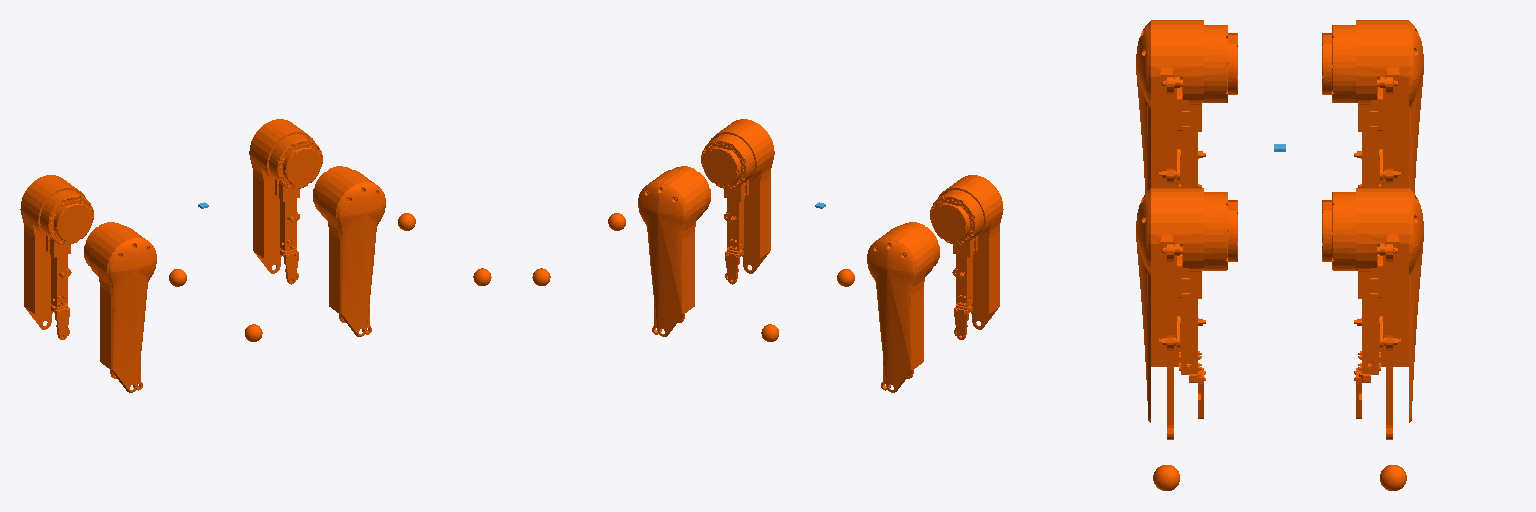
--- What the picture shows (computed from the rendered views, not written in the file) ---
Views: 3 orthographic renders of the robot side by side, from view 1: azimuth 30°, elevation 25°; view 2: azimuth 150°, elevation 25°; view 3: azimuth 270°, elevation 25°.
Model robot with 18 links and 17 joints (12 revolute, 5 fixed), rooted at base, posed joints at zero except 4 at the middle of their limits (FR_calf_joint = -1.71, FL_calf_joint = -1.71, RR_calf_joint = -1.71, RL_calf_joint = -1.71).
Visible links, largest first — view 1: RR_thigh, FR_thigh, RL_thigh, FL_thigh; view 2: RL_thigh, FL_thigh, RR_thigh, FR_thigh; view 3: FR_thigh, FL_thigh, RR_thigh, RL_thigh, FR_foot, FL_foot.
Link boxes in pixels (box(x1,y1,x2,y2)): RR_thigh: box(84, 222, 156, 392); FR_thigh: box(313, 166, 385, 336); RL_thigh: box(20, 175, 93, 339); FL_thigh: box(249, 119, 322, 284); RL_thigh: box(867, 222, 939, 392); FL_thigh: box(638, 166, 710, 336); RR_thigh: box(930, 175, 1003, 339); FR_thigh: box(701, 119, 774, 284); FR_thigh: box(1136, 188, 1237, 439); FL_thigh: box(1322, 188, 1423, 439); RR_thigh: box(1136, 20, 1237, 192); RL_thigh: box(1322, 20, 1423, 192); FR_foot: box(1153, 465, 1179, 490); FL_foot: box(1380, 465, 1406, 490).
Size in the robot's own frame: 0.8176 by 0.3506 by 0.3193 metres.
Meshes: 5 distinct files referenced, 4 mesh visuals loaded (2 Collada DAE); not drawn: 9 (reference not matched to a file when rendering).

The robot description file, URDF, robot "robot":
<?xml version="1.0" ?>
<!-- =================================================================================== -->
<!-- |    This document was autogenerated by xacro from ../robots/quadrupedal_robot/arcdog.xacro | -->
<!-- |    EDITING THIS FILE BY HAND IS NOT RECOMMENDED                                 | -->
<!-- =================================================================================== -->
<robot name="robot">
  <material name="black">
    <color rgba="0.0 0.0 0.0 1.0"/>
  </material>
  <material name="blue">
    <color rgba="0.0 0.0 0.8 1.0"/>
  </material>
  <material name="green">
    <color rgba="0.0 0.8 0.0 1.0"/>
  </material>
  <material name="grey">
    <color rgba="0.2 0.2 0.2 1.0"/>
  </material>
  <material name="silver">
    <color rgba="0.9137254901960784 0.9137254901960784 0.8470588235294118 1.0"/>
  </material>
  <material name="orange">
    <color rgba="1.0 0.4235294117647059 0.0392156862745098 1.0"/>
  </material>
  <material name="brown">
    <color rgba="0.8705882352941177 0.8117647058823529 0.7647058823529411 1.0"/>
  </material>
  <material name="red">
    <color rgba="0.8 0.0 0.0 1.0"/>
  </material>
  <material name="white">
    <color rgba="1.0 1.0 1.0 1.0"/>
  </material>
  <!-- ros_control plugin -->
  <gazebo>
    <plugin filename="libarcdog_hw_sim.so" name="gazebo_ros_control">
      <robotNamespace>/</robotNamespace>
      <robotParam>legged_robot_description</robotParam>
      <robotSimType>arcdog_sim/ArcdogHWSim</robotSimType>
    </plugin>
  </gazebo>
  <gazebo>
    <plugin filename="libgazebo_ros_p3d.so" name="p3d_base_controller">
      <alwaysOn>true</alwaysOn>
      <updateRate>1000.0</updateRate>
      <bodyName>base</bodyName>
      <topicName>ground_truth/state</topicName>
      <gaussianNoise>0</gaussianNoise>
      <frameName>world</frameName>
      <xyzOffsets>0 0 0</xyzOffsets>
      <rpyOffsets>0 0 0</rpyOffsets>
    </plugin>
  </gazebo>

    
  <link name="base">
    <visual>
      <origin rpy="0 0 0" xyz="0 0 0"/>
      <geometry>
         <mesh filename="../meshes/trunk.dae" scale="1 1 1"/>
      </geometry>
    </visual>
    <collision>
      <origin rpy="0 0 0" xyz="0 0 0"/>
      <geometry>
        <box size="0.552 0.121 0.116"/>
      </geometry>
    </collision>
    <inertial>
      <origin rpy="0 0 0" xyz="0.00575 0.00126 -0.00469"/>
      <mass value="7.021"/>
      <inertia ixx="0.03769023916" ixy="1.433761e-05" ixz="0.00051349975" iyy="0.05008788073" iyz="0.00015851764" izz="0.07146322696"/>
    </inertial>
  </link>
  <!-- Imu is fixed to the base link -->
  <joint name="unitree_imu_joint" type="fixed">
    <origin rpy="0. 0. 0." xyz="0. 0. 0."/>
    <parent link="base"/>
    <child link="unitree_imu"/>
  </joint>
  <!-- Imu link -->
  <link name="unitree_imu">
    <inertial>
      <mass value="0.01"/>
      <origin rpy="0 0 0" xyz="0 0 0"/>
      <inertia ixx="0.000001" ixy="0" ixz="0" iyy="0.000001" iyz="0" izz="0.000001"/>
    </inertial>
    <visual>
      <origin rpy="0 0 0" xyz="0 0 0"/>
      <geometry>
        <box size="0.015 0.015 0.004"/>
      </geometry>
    </visual>
    <material name="orange">
      <color rgba="255 108 10 255"/>
    </material>
  </link>
  <gazebo reference="unitree_imu">
    <material>Gazebo/Orange</material>
  </gazebo>
  <gazebo reference="unitree_imu_joint">
    <disableFixedJointLumping>true</disableFixedJointLumping>
  </gazebo>
  <joint name="FR_hip_joint" type="revolute">
    <origin rpy="0 0 0" xyz="0.2407 -0.051 0"/>
    <parent link="base"/>
    <child link="FR_hip"/>
    <axis xyz="1 0 0"/>
    <dynamics damping="0.05" friction="0.01"/>
    <limit effort="35.278" lower="-1.2217304763960306" upper="1.2217304763960306" velocity="20"/>
  </joint>
  <link name="FR_hip">
    <visual>
      <origin rpy="3.141592653589793 0 0" xyz="0 0 0"/>
      <geometry>
        <mesh filename="../meshes/hip.dae" scale="1 1 1"/>
      </geometry>
      <material name="orange"/>
    </visual>
    <collision>
      <origin rpy="1.5707963267948966 0 0" xyz="0 0 0"/>
      <geometry>
        <cylinder length="0.1165" radius="0.046"/>
      </geometry>
    </collision>
    <inertial>
      <origin rpy="0 0 0" xyz="-0.00758 0.00359 -0.00029"/>
      <mass value="1.162"/>
      <inertia ixx="0.00095157705" ixy="-1.10967e-05" ixz="-2.66665e-06" iyy="0.00159323348" iyz="1.26718e-05" izz="0.00125451931"/>
    </inertial>
  </link>
  <joint name="FR_thigh_joint" type="revolute">
    <origin rpy="0 0 0" xyz="0 -0.0868 0"/>
    <parent link="FR_hip"/>
    <child link="FR_thigh"/>
    <axis xyz="0 1 0"/>
    <dynamics damping="0.05" friction="0.01"/>
    <limit effort="35.278" lower="-0.6457718232379019" upper="0.6457718232379019" velocity="20"/>
  </joint>
  <link name="FR_thigh">
    <visual>
      <origin rpy="0 0 0" xyz="0 0 0"/>
      <geometry>
        <mesh filename="../meshes/thigh_mirror.dae" scale="1 1 1"/>
      </geometry>
      <material name="orange"/>
    </visual>
    <collision>
      <origin rpy="0 1.6707963267948966 0" xyz="-0.015 0 -0.12225"/>
      <geometry>
        <box size="0.2445 0.062 0.043"/>
      </geometry>
    </collision>
    <collision>
      <origin rpy="1.5707963267948966 0 0" xyz="0 -0.0 0"/>
      <geometry>
        <cylinder length="0.03" radius="0.044"/>
      </geometry>
    </collision>
    <inertial>
      <origin rpy="0 0 0" xyz="0.00033 -0.03334 -0.02983"/>
      <mass value="1.528"/>
      <inertia ixx="0.00884041519" ixy="3.381758e-05" ixz="-5.33686e-05" iyy="0.00784145389" iyz="-0.00128350622" izz="0.0026004502"/>
    </inertial>
  </link>
  <joint name="FR_calf_joint" type="revolute">
    <origin rpy="0 0 0" xyz="0 0 -0.2445"/>
    <parent link="FR_thigh"/>
    <child link="FR_calf"/>
    <axis xyz="0 1 0"/>
    <dynamics damping="0.05" friction="0.01"/>
    <limit effort="44.4" lower="-2.775073510670984" upper="-0.6457718232379019" velocity="15.89"/>
  </joint>
  <link name="FR_calf">
    <visual>
      <origin rpy="0 0 0" xyz="0 0 0"/>
      <geometry>
        <mesh filename="../meshes/calf.dae" scale="1 1 1"/>
      </geometry>
      <material name="orange"/>
    </visual>
    <collision>
      <origin rpy="0 1.5707963267948966 0" xyz="0.008 0 -0.13475"/>
      <geometry>
        <box size="0.2695 0.05 0.03"/>
      </geometry>
    </collision>
    <inertial>
      <origin rpy="0 0 0" xyz="0.0016 0.00438 -0.12232"/>
      <mass value="0.132"/>
      <inertia ixx="0.00228050753" ixy="-3.3551e-07" ixz="8.26635e-06" iyy="0.00225891907" iyz="0.00010727008" izz="5.160443e-05"/>
    </inertial>
  </link>
  <joint dont_collapse="true" name="FR_foot_fixed" type="fixed">
    <origin rpy="0 0 0" xyz="0 0 -0.2695"/>
    <parent link="FR_calf"/>
    <child link="FR_foot"/>
  </joint>
  <link name="FR_foot">
    <visual>
      <origin rpy="0 0 0" xyz="0 0 0"/>
      <geometry>
        <sphere radius="0.0165"/>
      </geometry>
      <material name="orange"/>
    </visual>
    <collision>
      <origin rpy="0 0 0" xyz="0 0 0"/>
      <geometry>
        <sphere radius="0.0265"/>
      </geometry>
    </collision>
    <inertial>
      <mass value="0.06"/>
      <inertia ixx="1.6853999999999998e-05" ixy="0.0" ixz="0.0" iyy="1.6853999999999998e-05" iyz="0.0" izz="1.6853999999999998e-05"/>
    </inertial>
  </link>
  <gazebo reference="FR_foot_fixed">
    <disableFixedJointLumping>true</disableFixedJointLumping>
  </gazebo>
  <gazebo reference="FR_hip">
    <mu1>0.2</mu1>
    <mu2>0.2</mu2>
    <material>Gazebo/DarkGrey</material>
  </gazebo>
  <gazebo reference="FR_thigh">
    <mu1>0.2</mu1>
    <mu2>0.2</mu2>
    <self_collide>0</self_collide>
    <material>Gazebo/DarkGrey</material>
    <kp value="1000000.0"/>
    <kd value="100.0"/>
  </gazebo>
  <gazebo reference="FR_calf">
    <mu1>0.6</mu1>
    <mu2>0.6</mu2>
    <self_collide>1</self_collide>
  </gazebo>
  <gazebo reference="FR_FOOT">
    <mu1>0.6</mu1>
    <mu2>0.6</mu2>
    <self_collide>1</self_collide>
    <material>Gazebo/DarkGrey</material>
    <kp value="1000000.0"/>
    <kd value="100.0"/>
  </gazebo>
  <transmission name="FR_HAA_tran">
    <type>transmission_interface/SimpleTransmission</type>
    <joint name="FR_hip_joint">
      <hardwareInterface>hardware_interface/EffortJointInterface</hardwareInterface>
    </joint>
    <actuator name="FR_HAA_motor">
      <hardwareInterface>hardware_interface/EffortJointInterface</hardwareInterface>
      <mechanicalReduction>1</mechanicalReduction>
    </actuator>
  </transmission>
  <transmission name="FR_HFE_tran">
    <type>transmission_interface/SimpleTransmission</type>
    <joint name="FR_thigh_joint">
      <hardwareInterface>hardware_interface/EffortJointInterface</hardwareInterface>
    </joint>
    <actuator name="FR_HFE_motor">
      <hardwareInterface>hardware_interface/EffortJointInterface</hardwareInterface>
      <mechanicalReduction>1</mechanicalReduction>
    </actuator>
  </transmission>
  <transmission name="FR_KFE_tran">
    <type>transmission_interface/SimpleTransmission</type>
    <joint name="FR_calf_joint">
      <hardwareInterface>hardware_interface/EffortJointInterface</hardwareInterface>
    </joint>
    <actuator name="FR_KFE_motor">
      <hardwareInterface>hardware_interface/EffortJointInterface</hardwareInterface>
      <mechanicalReduction>1</mechanicalReduction>
    </actuator>
  </transmission>
  <joint name="FL_hip_joint" type="revolute">
    <origin rpy="0 0 0" xyz="0.2407 0.051 0"/>
    <parent link="base"/>
    <child link="FL_hip"/>
    <axis xyz="1 0 0"/>
    <dynamics damping="0.05" friction="0.01"/>
    <limit effort="35.278" lower="-1.2217304763960306" upper="1.2217304763960306" velocity="20"/>
  </joint>
  <link name="FL_hip">
    <visual>
      <origin rpy="0 0 0" xyz="0 0 0"/>
      <geometry>
        <mesh filename="../meshes/hip.dae" scale="1 1 1"/>
      </geometry>
      <material name="orange"/>
    </visual>
    <collision>
      <origin rpy="1.5707963267948966 0 0" xyz="0 0 0"/>
      <geometry>
        <cylinder length="0.1165" radius="0.046"/>
      </geometry>
    </collision>
    <inertial>
      <origin rpy="0 0 0" xyz="-0.00758 -0.00359 -0.00029"/>
      <mass value="1.162"/>
      <inertia ixx="0.00095157705" ixy="1.10967e-05" ixz="-2.66665e-06" iyy="0.00159323348" iyz="-1.26718e-05" izz="0.00125451931"/>
    </inertial>
  </link>
  <joint name="FL_thigh_joint" type="revolute">
    <origin rpy="0 0 0" xyz="0 0.0868 0"/>
    <parent link="FL_hip"/>
    <child link="FL_thigh"/>
    <axis xyz="0 1 0"/>
    <dynamics damping="0.05" friction="0.01"/>
    <limit effort="35.278" lower="-0.6457718232379019" upper="0.6457718232379019" velocity="20"/>
  </joint>
  <link name="FL_thigh">
    <visual>
      <origin rpy="0 0 0" xyz="0 0 0"/>
      <geometry>
        <mesh filename="../meshes/thigh.dae" scale="1 1 1"/>
      </geometry>
      <material name="orange"/>
    </visual>
    <collision>
      <origin rpy="0 1.6707963267948966 0" xyz="-0.015 0 -0.12225"/>
      <geometry>
        <box size="0.2445 0.062 0.043"/>
      </geometry>
    </collision>
    <collision>
      <origin rpy="1.5707963267948966 0 0" xyz="0 0.0 0"/>
      <geometry>
        <cylinder length="0.03" radius="0.044"/>
      </geometry>
    </collision>
    <inertial>
      <origin rpy="0 0 0" xyz="0.00033 0.03334 -0.02983"/>
      <mass value="1.528"/>
      <inertia ixx="0.00884041519" ixy="-3.381758e-05" ixz="-5.33686e-05" iyy="0.00784145389" iyz="0.00128350622" izz="0.0026004502"/>
    </inertial>
  </link>
  <joint name="FL_calf_joint" type="revolute">
    <origin rpy="0 0 0" xyz="0 0 -0.2445"/>
    <parent link="FL_thigh"/>
    <child link="FL_calf"/>
    <axis xyz="0 1 0"/>
    <dynamics damping="0.05" friction="0.01"/>
    <limit effort="44.4" lower="-2.775073510670984" upper="-0.6457718232379019" velocity="15.89"/>
  </joint>
  <link name="FL_calf">
    <visual>
      <origin rpy="0 0 0" xyz="0 0 0"/>
      <geometry>
        <mesh filename="../meshes/calf.dae" scale="1 1 1"/>
      </geometry>
      <material name="orange"/>
    </visual>
    <collision>
      <origin rpy="0 1.5707963267948966 0" xyz="0.008 0 -0.13475"/>
      <geometry>
        <box size="0.2695 0.05 0.03"/>
      </geometry>
    </collision>
    <inertial>
      <origin rpy="0 0 0" xyz="0.0016 0.00438 -0.12232"/>
      <mass value="0.132"/>
      <inertia ixx="0.00228050753" ixy="-3.3551e-07" ixz="8.26635e-06" iyy="0.00225891907" iyz="0.00010727008" izz="5.160443e-05"/>
    </inertial>
  </link>
  <joint dont_collapse="true" name="FL_foot_fixed" type="fixed">
    <origin rpy="0 0 0" xyz="0 0 -0.2695"/>
    <parent link="FL_calf"/>
    <child link="FL_foot"/>
  </joint>
  <link name="FL_foot">
    <visual>
      <origin rpy="0 0 0" xyz="0 0 0"/>
      <geometry>
        <sphere radius="0.0165"/>
      </geometry>
      <material name="orange"/>
    </visual>
    <collision>
      <origin rpy="0 0 0" xyz="0 0 0"/>
      <geometry>
        <sphere radius="0.0265"/>
      </geometry>
    </collision>
    <inertial>
      <mass value="0.06"/>
      <inertia ixx="1.6853999999999998e-05" ixy="0.0" ixz="0.0" iyy="1.6853999999999998e-05" iyz="0.0" izz="1.6853999999999998e-05"/>
    </inertial>
  </link>
  <gazebo reference="FL_foot_fixed">
    <disableFixedJointLumping>true</disableFixedJointLumping>
  </gazebo>
  <gazebo reference="FL_hip">
    <mu1>0.2</mu1>
    <mu2>0.2</mu2>
    <material>Gazebo/DarkGrey</material>
  </gazebo>
  <gazebo reference="FL_thigh">
    <mu1>0.2</mu1>
    <mu2>0.2</mu2>
    <self_collide>0</self_collide>
    <material>Gazebo/DarkGrey</material>
    <kp value="1000000.0"/>
    <kd value="100.0"/>
  </gazebo>
  <gazebo reference="FL_calf">
    <mu1>0.6</mu1>
    <mu2>0.6</mu2>
    <self_collide>1</self_collide>
  </gazebo>
  <gazebo reference="FL_FOOT">
    <mu1>0.6</mu1>
    <mu2>0.6</mu2>
    <self_collide>1</self_collide>
    <material>Gazebo/DarkGrey</material>
    <kp value="1000000.0"/>
    <kd value="100.0"/>
  </gazebo>
  <transmission name="FL_HAA_tran">
    <type>transmission_interface/SimpleTransmission</type>
    <joint name="FL_hip_joint">
      <hardwareInterface>hardware_interface/EffortJointInterface</hardwareInterface>
    </joint>
    <actuator name="FL_HAA_motor">
      <hardwareInterface>hardware_interface/EffortJointInterface</hardwareInterface>
      <mechanicalReduction>1</mechanicalReduction>
    </actuator>
  </transmission>
  <transmission name="FL_HFE_tran">
    <type>transmission_interface/SimpleTransmission</type>
    <joint name="FL_thigh_joint">
      <hardwareInterface>hardware_interface/EffortJointInterface</hardwareInterface>
    </joint>
    <actuator name="FL_HFE_motor">
      <hardwareInterface>hardware_interface/EffortJointInterface</hardwareInterface>
      <mechanicalReduction>1</mechanicalReduction>
    </actuator>
  </transmission>
  <transmission name="FL_KFE_tran">
    <type>transmission_interface/SimpleTransmission</type>
    <joint name="FL_calf_joint">
      <hardwareInterface>hardware_interface/EffortJointInterface</hardwareInterface>
    </joint>
    <actuator name="FL_KFE_motor">
      <hardwareInterface>hardware_interface/EffortJointInterface</hardwareInterface>
      <mechanicalReduction>1</mechanicalReduction>
    </actuator>
  </transmission>
  <joint name="RR_hip_joint" type="revolute">
    <origin rpy="0 0 0" xyz="-0.2407 -0.051 0"/>
    <parent link="base"/>
    <child link="RR_hip"/>
    <axis xyz="1 0 0"/>
    <dynamics damping="0.05" friction="0.01"/>
    <limit effort="35.278" lower="-1.2217304763960306" upper="1.2217304763960306" velocity="20"/>
  </joint>
  <link name="RR_hip">
    <visual>
      <origin rpy="3.141592653589793 3.141592653589793 0" xyz="0 0 0"/>
      <geometry>
        <mesh filename="../meshes/hip.dae" scale="1 1 1"/>
      </geometry>
      <material name="orange"/>
    </visual>
    <collision>
      <origin rpy="1.5707963267948966 0 0" xyz="0 0 0"/>
      <geometry>
        <cylinder length="0.1165" radius="0.046"/>
      </geometry>
    </collision>
    <inertial>
      <origin rpy="0 0 0" xyz="0.00758 0.00359 -0.00029"/>
      <mass value="1.162"/>
      <inertia ixx="0.00095157705" ixy="1.10967e-05" ixz="2.66665e-06" iyy="0.00159323348" iyz="1.26718e-05" izz="0.00125451931"/>
    </inertial>
  </link>
  <joint name="RR_thigh_joint" type="revolute">
    <origin rpy="0 0 0" xyz="0 -0.0868 0"/>
    <parent link="RR_hip"/>
    <child link="RR_thigh"/>
    <axis xyz="0 1 0"/>
    <dynamics damping="0.05" friction="0.01"/>
    <limit effort="35.278" lower="-0.6457718232379019" upper="0.6457718232379019" velocity="20"/>
  </joint>
  <link name="RR_thigh">
    <visual>
      <origin rpy="0 0 0" xyz="0 0 0"/>
      <geometry>
        <mesh filename="../meshes/thigh_mirror.dae" scale="1 1 1"/>
      </geometry>
      <material name="orange"/>
    </visual>
    <collision>
      <origin rpy="0 1.6707963267948966 0" xyz="-0.015 0 -0.12225"/>
      <geometry>
        <box size="0.2445 0.062 0.043"/>
      </geometry>
    </collision>
    <collision>
      <origin rpy="1.5707963267948966 0 0" xyz="0 -0.0 0"/>
      <geometry>
        <cylinder length="0.03" radius="0.044"/>
      </geometry>
    </collision>
    <inertial>
      <origin rpy="0 0 0" xyz="0.00033 -0.03334 -0.02983"/>
      <mass value="1.528"/>
      <inertia ixx="0.00884041519" ixy="3.381758e-05" ixz="-5.33686e-05" iyy="0.00784145389" iyz="-0.00128350622" izz="0.0026004502"/>
    </inertial>
  </link>
  <joint name="RR_calf_joint" type="revolute">
    <origin rpy="0 0 0" xyz="0 0 -0.2445"/>
    <parent link="RR_thigh"/>
    <child link="RR_calf"/>
    <axis xyz="0 1 0"/>
    <dynamics damping="0.05" friction="0.01"/>
    <limit effort="44.4" lower="-2.775073510670984" upper="-0.6457718232379019" velocity="15.89"/>
  </joint>
  <link name="RR_calf">
    <visual>
      <origin rpy="0 0 0" xyz="0 0 0"/>
      <geometry>
        <mesh filename="../meshes/calf.dae" scale="1 1 1"/>
      </geometry>
      <material name="orange"/>
    </visual>
    <collision>
      <origin rpy="0 1.5707963267948966 0" xyz="0.008 0 -0.13475"/>
      <geometry>
        <box size="0.2695 0.05 0.03"/>
      </geometry>
    </collision>
    <inertial>
      <origin rpy="0 0 0" xyz="0.0016 0.00438 -0.12232"/>
      <mass value="0.132"/>
      <inertia ixx="0.00228050753" ixy="-3.3551e-07" ixz="8.26635e-06" iyy="0.00225891907" iyz="0.00010727008" izz="5.160443e-05"/>
    </inertial>
  </link>
  <joint dont_collapse="true" name="RR_foot_fixed" type="fixed">
    <origin rpy="0 0 0" xyz="0 0 -0.2695"/>
    <parent link="RR_calf"/>
    <child link="RR_foot"/>
  </joint>
  <link name="RR_foot">
    <visual>
      <origin rpy="0 0 0" xyz="0 0 0"/>
      <geometry>
        <sphere radius="0.0165"/>
      </geometry>
      <material name="orange"/>
    </visual>
    <collision>
      <origin rpy="0 0 0" xyz="0 0 0"/>
      <geometry>
        <sphere radius="0.0265"/>
      </geometry>
    </collision>
    <inertial>
      <mass value="0.06"/>
      <inertia ixx="1.6853999999999998e-05" ixy="0.0" ixz="0.0" iyy="1.6853999999999998e-05" iyz="0.0" izz="1.6853999999999998e-05"/>
    </inertial>
  </link>
  <gazebo reference="RR_foot_fixed">
    <disableFixedJointLumping>true</disableFixedJointLumping>
  </gazebo>
  <gazebo reference="RR_hip">
    <mu1>0.2</mu1>
    <mu2>0.2</mu2>
    <material>Gazebo/DarkGrey</material>
  </gazebo>
  <gazebo reference="RR_thigh">
    <mu1>0.2</mu1>
    <mu2>0.2</mu2>
    <self_collide>0</self_collide>
    <material>Gazebo/DarkGrey</material>
    <kp value="1000000.0"/>
    <kd value="100.0"/>
  </gazebo>
  <gazebo reference="RR_calf">
    <mu1>0.6</mu1>
    <mu2>0.6</mu2>
    <self_collide>1</self_collide>
  </gazebo>
  <gazebo reference="RR_FOOT">
    <mu1>0.6</mu1>
    <mu2>0.6</mu2>
    <self_collide>1</self_collide>
    <material>Gazebo/DarkGrey</material>
    <kp value="1000000.0"/>
    <kd value="100.0"/>
  </gazebo>
  <transmission name="RR_HAA_tran">
    <type>transmission_interface/SimpleTransmission</type>
    <joint name="RR_hip_joint">
      <hardwareInterface>hardware_interface/EffortJointInterface</hardwareInterface>
    </joint>
    <actuator name="RR_HAA_motor">
      <hardwareInterface>hardware_interface/EffortJointInterface</hardwareInterface>
      <mechanicalReduction>1</mechanicalReduction>
    </actuator>
  </transmission>
  <transmission name="RR_HFE_tran">
    <type>transmission_interface/SimpleTransmission</type>
    <joint name="RR_thigh_joint">
      <hardwareInterface>hardware_interface/EffortJointInterface</hardwareInterface>
    </joint>
    <actuator name="RR_HFE_motor">
      <hardwareInterface>hardware_interface/EffortJointInterface</hardwareInterface>
      <mechanicalReduction>1</mechanicalReduction>
    </actuator>
  </transmission>
  <transmission name="RR_KFE_tran">
    <type>transmission_interface/SimpleTransmission</type>
    <joint name="RR_calf_joint">
      <hardwareInterface>hardware_interface/EffortJointInterface</hardwareInterface>
    </joint>
    <actuator name="RR_KFE_motor">
      <hardwareInterface>hardware_interface/EffortJointInterface</hardwareInterface>
      <mechanicalReduction>1</mechanicalReduction>
    </actuator>
  </transmission>
  <joint name="RL_hip_joint" type="revolute">
    <origin rpy="0 0 0" xyz="-0.2407 0.051 0"/>
    <parent link="base"/>
    <child link="RL_hip"/>
    <axis xyz="1 0 0"/>
    <dynamics damping="0.05" friction="0.01"/>
    <limit effort="35.278" lower="-1.2217304763960306" upper="1.2217304763960306" velocity="20"/>
  </joint>
  <link name="RL_hip">
    <visual>
      <origin rpy="0 3.141592653589793 0" xyz="0 0 0"/>
      <geometry>
        <mesh filename="../meshes/hip.dae" scale="1 1 1"/>
      </geometry>
      <material name="orange"/>
    </visual>
    <collision>
      <origin rpy="1.5707963267948966 0 0" xyz="0 0 0"/>
      <geometry>
        <cylinder length="0.1165" radius="0.046"/>
      </geometry>
    </collision>
    <inertial>
      <origin rpy="0 0 0" xyz="0.00758 -0.00359 -0.00029"/>
      <mass value="1.162"/>
      <inertia ixx="0.00095157705" ixy="-1.10967e-05" ixz="2.66665e-06" iyy="0.00159323348" iyz="-1.26718e-05" izz="0.00125451931"/>
    </inertial>
  </link>
  <joint name="RL_thigh_joint" type="revolute">
    <origin rpy="0 0 0" xyz="0 0.0868 0"/>
    <parent link="RL_hip"/>
    <child link="RL_thigh"/>
    <axis xyz="0 1 0"/>
    <dynamics damping="0.05" friction="0.01"/>
    <limit effort="35.278" lower="-0.6457718232379019" upper="0.6457718232379019" velocity="20"/>
  </joint>
  <link name="RL_thigh">
    <visual>
      <origin rpy="0 0 0" xyz="0 0 0"/>
      <geometry>
        <mesh filename="../meshes/thigh.dae" scale="1 1 1"/>
      </geometry>
      <material name="orange"/>
    </visual>
    <collision>
      <origin rpy="0 1.6707963267948966 0" xyz="-0.015 0 -0.12225"/>
      <geometry>
        <box size="0.2445 0.062 0.043"/>
      </geometry>
    </collision>
    <collision>
      <origin rpy="1.5707963267948966 0 0" xyz="0 0.0 0"/>
      <geometry>
        <cylinder length="0.03" radius="0.044"/>
      </geometry>
    </collision>
    <inertial>
      <origin rpy="0 0 0" xyz="0.00033 0.03334 -0.02983"/>
      <mass value="1.528"/>
      <inertia ixx="0.00884041519" ixy="-3.381758e-05" ixz="-5.33686e-05" iyy="0.00784145389" iyz="0.00128350622" izz="0.0026004502"/>
    </inertial>
  </link>
  <joint name="RL_calf_joint" type="revolute">
    <origin rpy="0 0 0" xyz="0 0 -0.2445"/>
    <parent link="RL_thigh"/>
    <child link="RL_calf"/>
    <axis xyz="0 1 0"/>
    <dynamics damping="0.05" friction="0.01"/>
    <limit effort="44.4" lower="-2.775073510670984" upper="-0.6457718232379019" velocity="15.89"/>
  </joint>
  <link name="RL_calf">
    <visual>
      <origin rpy="0 0 0" xyz="0 0 0"/>
      <geometry>
        <mesh filename="../meshes/calf.dae" scale="1 1 1"/>
      </geometry>
      <material name="orange"/>
    </visual>
    <collision>
      <origin rpy="0 1.5707963267948966 0" xyz="0.008 0 -0.13475"/>
      <geometry>
        <box size="0.2695 0.05 0.03"/>
      </geometry>
    </collision>
    <inertial>
      <origin rpy="0 0 0" xyz="0.0016 0.00438 -0.12232"/>
      <mass value="0.132"/>
      <inertia ixx="0.00228050753" ixy="-3.3551e-07" ixz="8.26635e-06" iyy="0.00225891907" iyz="0.00010727008" izz="5.160443e-05"/>
    </inertial>
  </link>
  <joint dont_collapse="true" name="RL_foot_fixed" type="fixed">
    <origin rpy="0 0 0" xyz="0 0 -0.2695"/>
    <parent link="RL_calf"/>
    <child link="RL_foot"/>
  </joint>
  <link name="RL_foot">
    <visual>
      <origin rpy="0 0 0" xyz="0 0 0"/>
      <geometry>
        <sphere radius="0.0165"/>
      </geometry>
      <material name="orange"/>
    </visual>
    <collision>
      <origin rpy="0 0 0" xyz="0 0 0"/>
      <geometry>
        <sphere radius="0.0265"/>
      </geometry>
    </collision>
    <inertial>
      <mass value="0.06"/>
      <inertia ixx="1.6853999999999998e-05" ixy="0.0" ixz="0.0" iyy="1.6853999999999998e-05" iyz="0.0" izz="1.6853999999999998e-05"/>
    </inertial>
  </link>
  <gazebo reference="RL_foot_fixed">
    <disableFixedJointLumping>true</disableFixedJointLumping>
  </gazebo>
  <gazebo reference="RL_hip">
    <mu1>0.2</mu1>
    <mu2>0.2</mu2>
    <material>Gazebo/DarkGrey</material>
  </gazebo>
  <gazebo reference="RL_thigh">
    <mu1>0.2</mu1>
    <mu2>0.2</mu2>
    <self_collide>0</self_collide>
    <material>Gazebo/DarkGrey</material>
    <kp value="1000000.0"/>
    <kd value="100.0"/>
  </gazebo>
  <gazebo reference="RL_calf">
    <mu1>0.6</mu1>
    <mu2>0.6</mu2>
    <self_collide>1</self_collide>
  </gazebo>
  <gazebo reference="RL_FOOT">
    <mu1>0.6</mu1>
    <mu2>0.6</mu2>
    <self_collide>1</self_collide>
    <material>Gazebo/DarkGrey</material>
    <kp value="1000000.0"/>
    <kd value="100.0"/>
  </gazebo>
  <transmission name="RL_HAA_tran">
    <type>transmission_interface/SimpleTransmission</type>
    <joint name="RL_hip_joint">
      <hardwareInterface>hardware_interface/EffortJointInterface</hardwareInterface>
    </joint>
    <actuator name="RL_HAA_motor">
      <hardwareInterface>hardware_interface/EffortJointInterface</hardwareInterface>
      <mechanicalReduction>1</mechanicalReduction>
    </actuator>
  </transmission>
  <transmission name="RL_HFE_tran">
    <type>transmission_interface/SimpleTransmission</type>
    <joint name="RL_thigh_joint">
      <hardwareInterface>hardware_interface/EffortJointInterface</hardwareInterface>
    </joint>
    <actuator name="RL_HFE_motor">
      <hardwareInterface>hardware_interface/EffortJointInterface</hardwareInterface>
      <mechanicalReduction>1</mechanicalReduction>
    </actuator>
  </transmission>
  <transmission name="RL_KFE_tran">
    <type>transmission_interface/SimpleTransmission</type>
    <joint name="RL_calf_joint">
      <hardwareInterface>hardware_interface/EffortJointInterface</hardwareInterface>
    </joint>
    <actuator name="RL_KFE_motor">
      <hardwareInterface>hardware_interface/EffortJointInterface</hardwareInterface>
      <mechanicalReduction>1</mechanicalReduction>
    </actuator>
  </transmission>
</robot>
